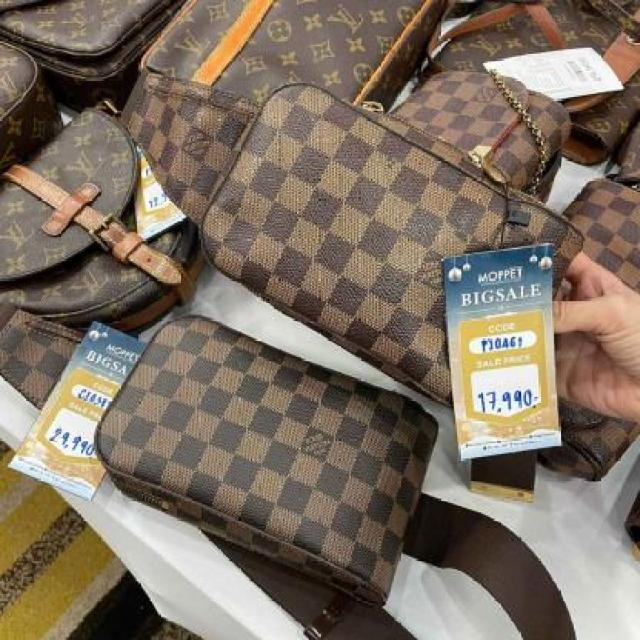Bag: (176, 33, 584, 444), (78, 264, 456, 631)
